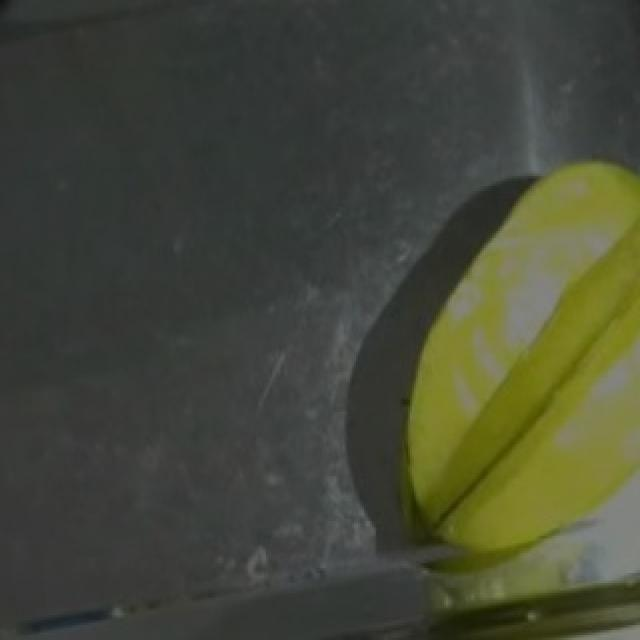fruit: (414, 131, 640, 536)
